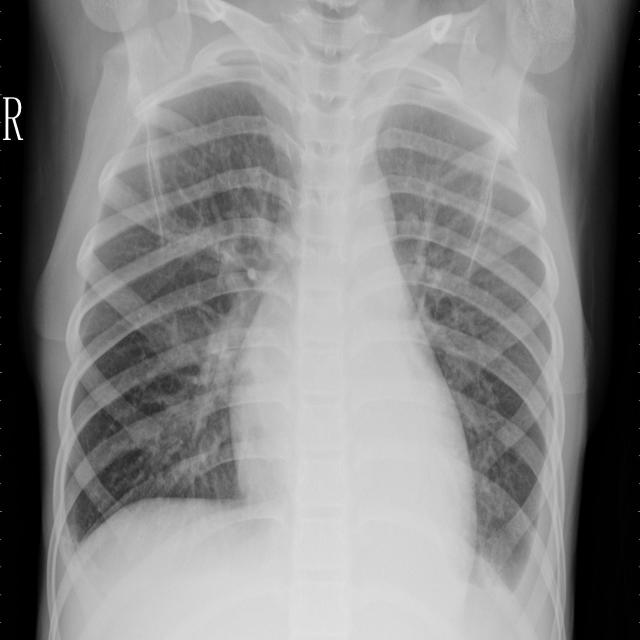low-pneumonia: (151, 197, 269, 468), (391, 168, 476, 362)
